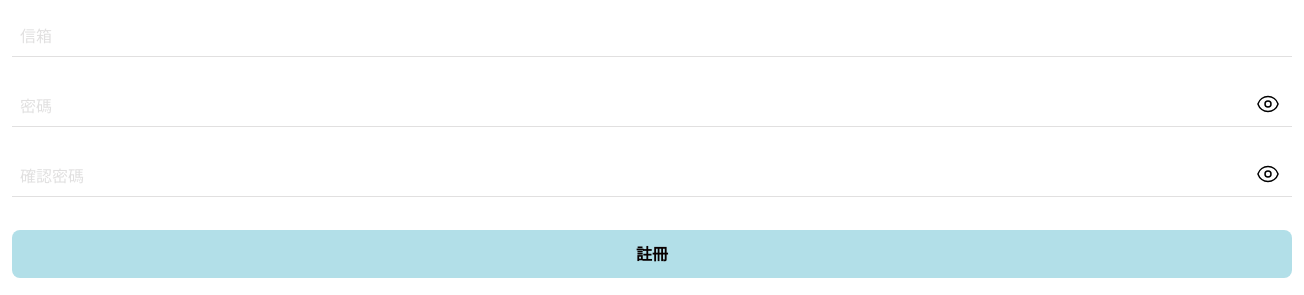
Test case: #RegisterPanel › should show password mismatch error
Type "password1" into the password field with placeholder "密碼" at {"x": 652, "y": 104}, box [12,82,1292,126]
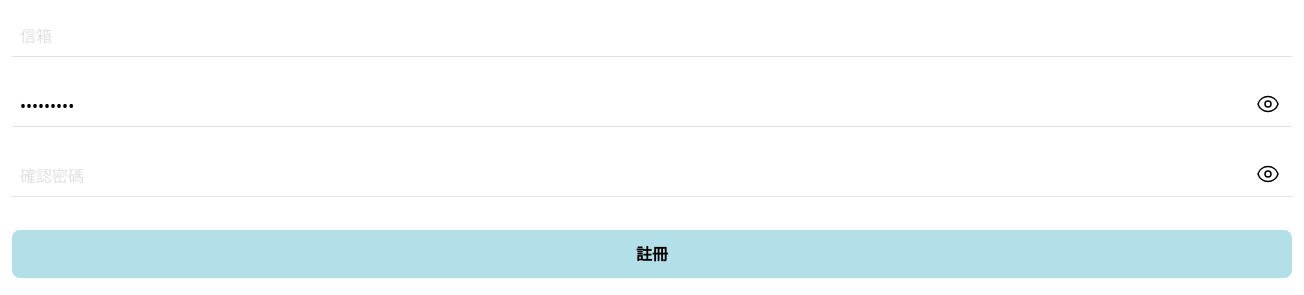
Type "password2" into the password field with placeholder "確認密碼" at {"x": 652, "y": 174}, box [12,152,1292,196]
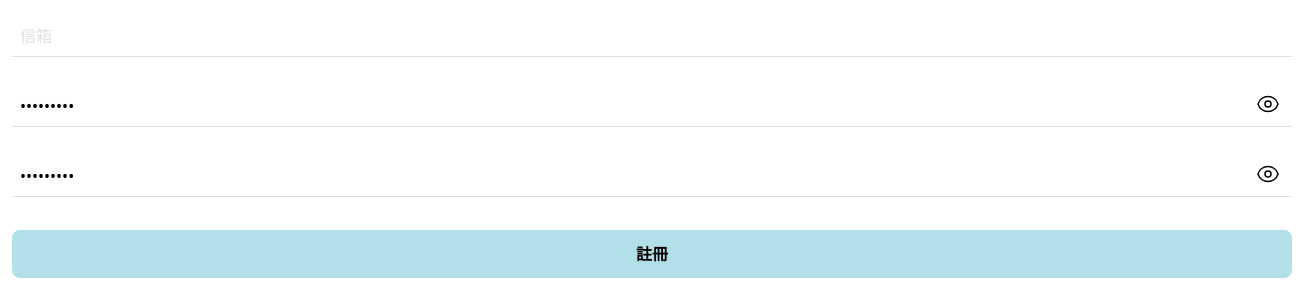
Click the button "註冊" at {"x": 652, "y": 254}, box [12,230,1292,278]
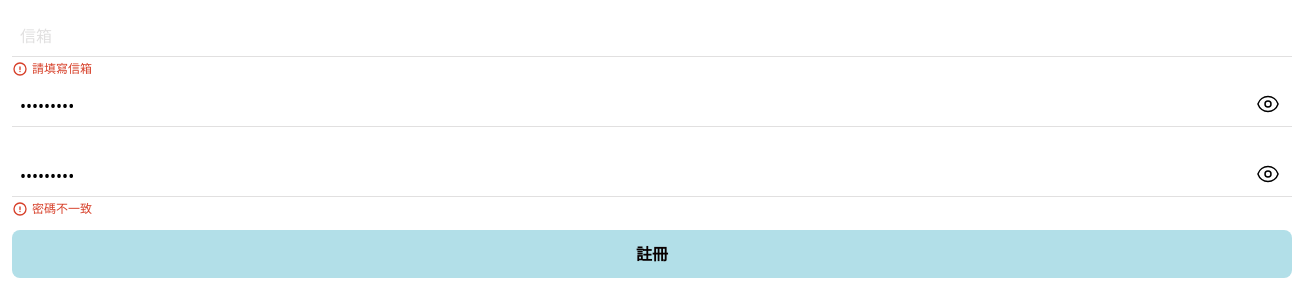
Check: the text "密碼不一致" is shown, box [32,201,92,217]
